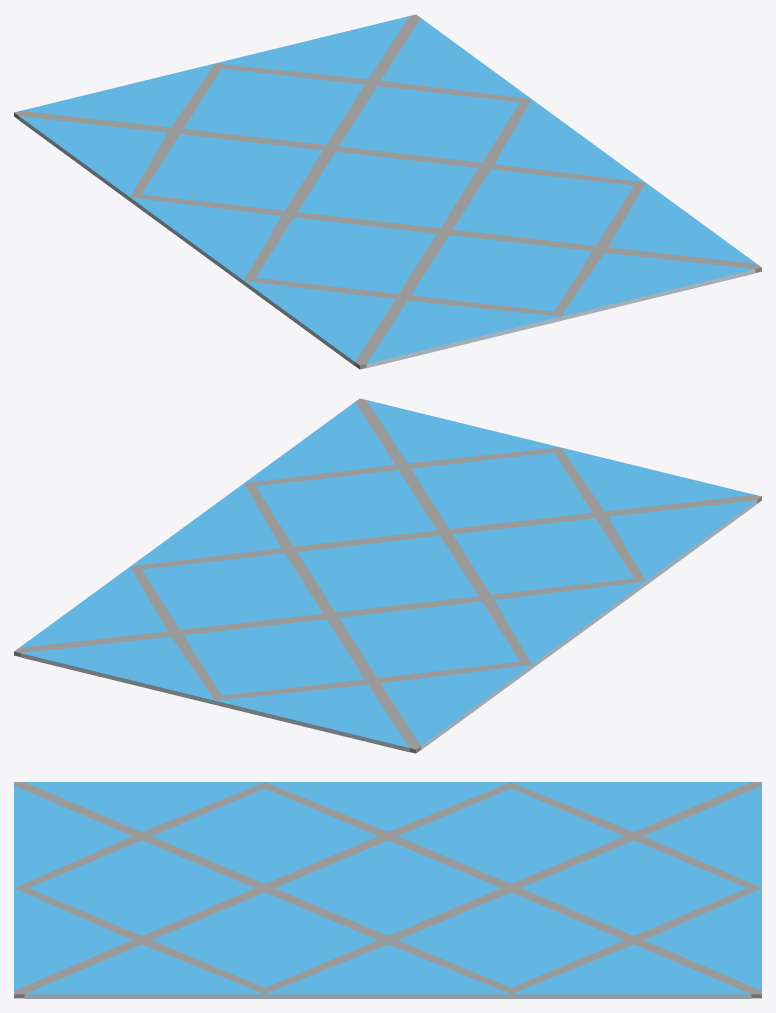
Rendered from Carpet_04.fbx.
The picture shows the model from 3 angles, top to bottom: view 1: azimuth 30°, elevation 25°; view 2: azimuth 150°, elevation 25°; view 3: azimuth 270°, elevation 25°; orthographic projection. The views are drawn at different scales.
Visible parts, largest first — view 1: polySurface68, polySurface65; view 2: polySurface68, polySurface65; view 3: polySurface68, polySurface65.
Part boxes in pixels (<box>): polySurface68: <box>19,16,756,368</box>; polySurface65: <box>14,14,761,369</box>; polySurface68: <box>19,400,756,752</box>; polySurface65: <box>14,398,761,753</box>; polySurface68: <box>14,782,761,998</box>; polySurface65: <box>14,782,761,998</box>.
Bounding box in the file's own units: 249 × 2.54 × 370.
2 materials, 1 textured.
